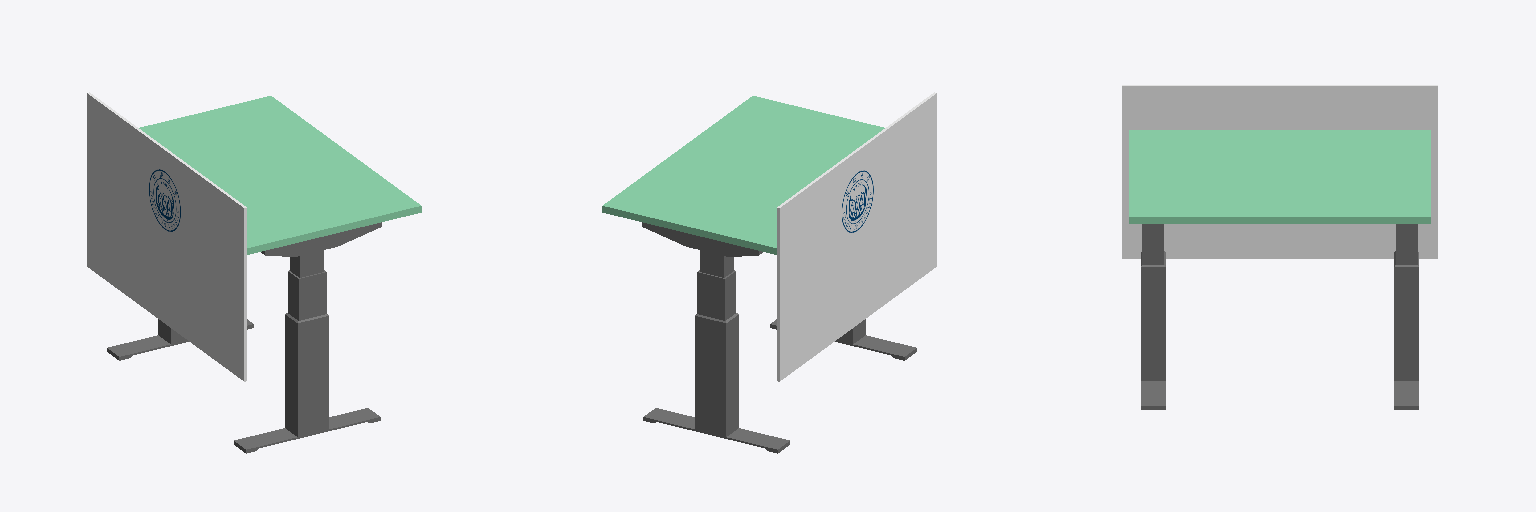
3 views of the same model, side by side, from view 1: azimuth 30°, elevation 25°; view 2: azimuth 150°, elevation 25°; view 3: azimuth 270°, elevation 25° (orthographic).
Parts seen in each view (by area): view 1: Plane002, ǰ̨����, Box005, ͬ��, Box007, Box010; view 2: Plane002, ǰ̨����, Box010, ͬ��, Box009, Box005; view 3: Plane002, ǰ̨����, Box005, Box010.
Boxes of the visible parts, box(x1,y1,x2,y2) form: Plane002: box(139, 96, 421, 254); ǰ̨����: box(87, 92, 246, 381); Box005: box(234, 250, 380, 453); ͬ��: box(144, 135, 186, 338); Box007: box(261, 222, 381, 256); Box010: box(107, 319, 253, 360); Plane002: box(602, 96, 884, 254); ǰ̨����: box(777, 92, 936, 381); Box010: box(643, 250, 789, 453); ͬ��: box(837, 135, 879, 338); Box009: box(642, 222, 762, 256); Box005: box(770, 319, 916, 360); Plane002: box(1129, 130, 1430, 223); ǰ̨����: box(1122, 85, 1437, 258); Box005: box(1141, 224, 1165, 409); Box010: box(1394, 224, 1418, 409).
Bounding box in the file's own units: 75.56 × 102 × 114.
Materials: 4 (1 with a texture image).